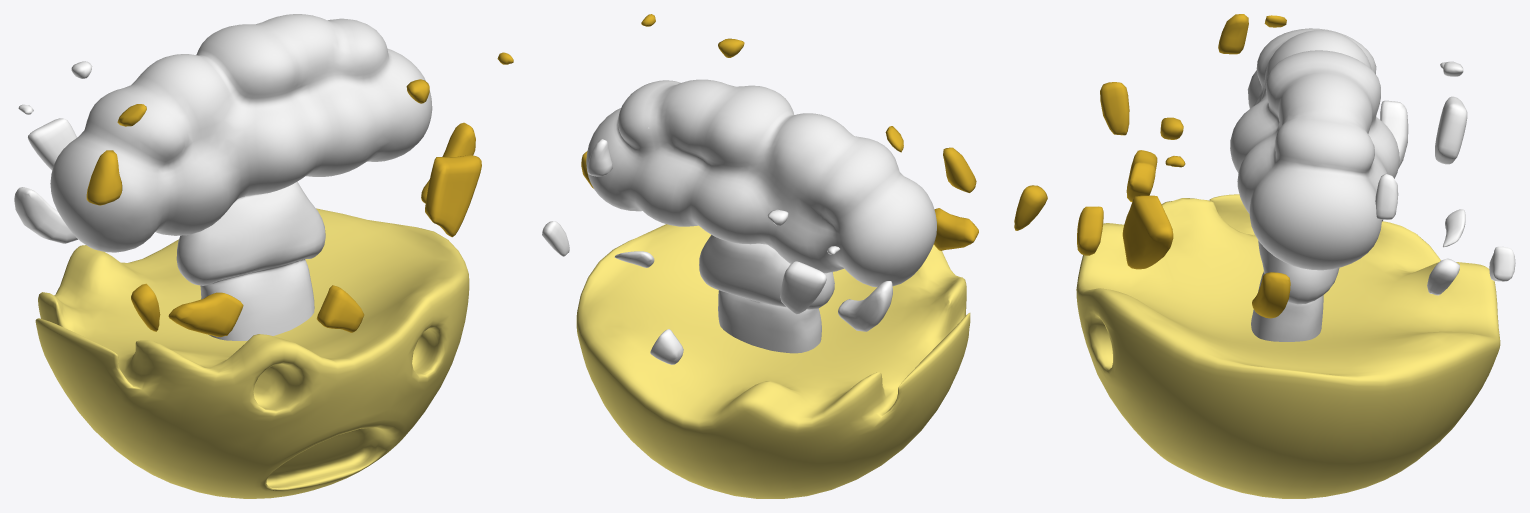
The model's file is 58_explodingHead.glb.
The picture shows the model from 3 angles, left to right: view 1: azimuth 30°, elevation 25°; view 2: azimuth 150°, elevation 25°; view 3: azimuth 270°, elevation 25°; orthographic projection. The views are drawn at different scales.
Visible parts, largest first — view 1: Explosion2, Explosion3, explosion, explosion1; view 2: Explosion2, Explosion3, explosion1, explosion; view 3: Explosion2, Explosion3, explosion, explosion1.
Boxes of the visible parts, left/top/right/bottom form: Explosion2: left=35, top=208, right=469, bottom=498; Explosion3: left=50, top=14, right=432, bottom=340; explosion: left=86, top=52, right=513, bottom=337; explosion1: left=14, top=61, right=92, bottom=243; Explosion2: left=576, top=224, right=970, bottom=498; Explosion3: left=586, top=79, right=936, bottom=353; explosion1: left=542, top=127, right=892, bottom=364; explosion: left=581, top=14, right=1047, bottom=250; Explosion2: left=1076, top=194, right=1500, bottom=498; Explosion3: left=1230, top=28, right=1399, bottom=341; explosion: left=1077, top=14, right=1290, bottom=318; explosion1: left=1375, top=61, right=1515, bottom=295.
Size of the model in its own units: 0.5405 by 0.5312 by 0.4923.
